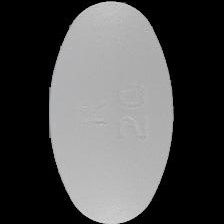61786-005: (0, 0, 224, 224)
